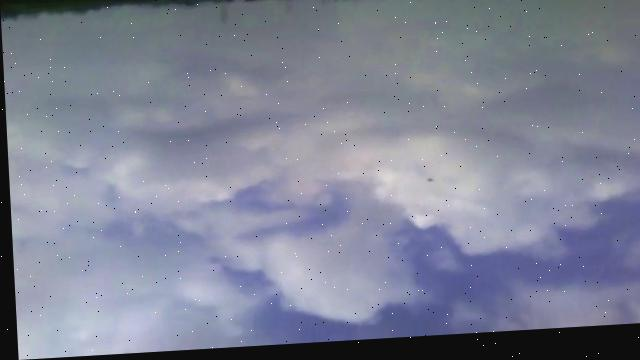drone: (420, 181, 433, 192)
